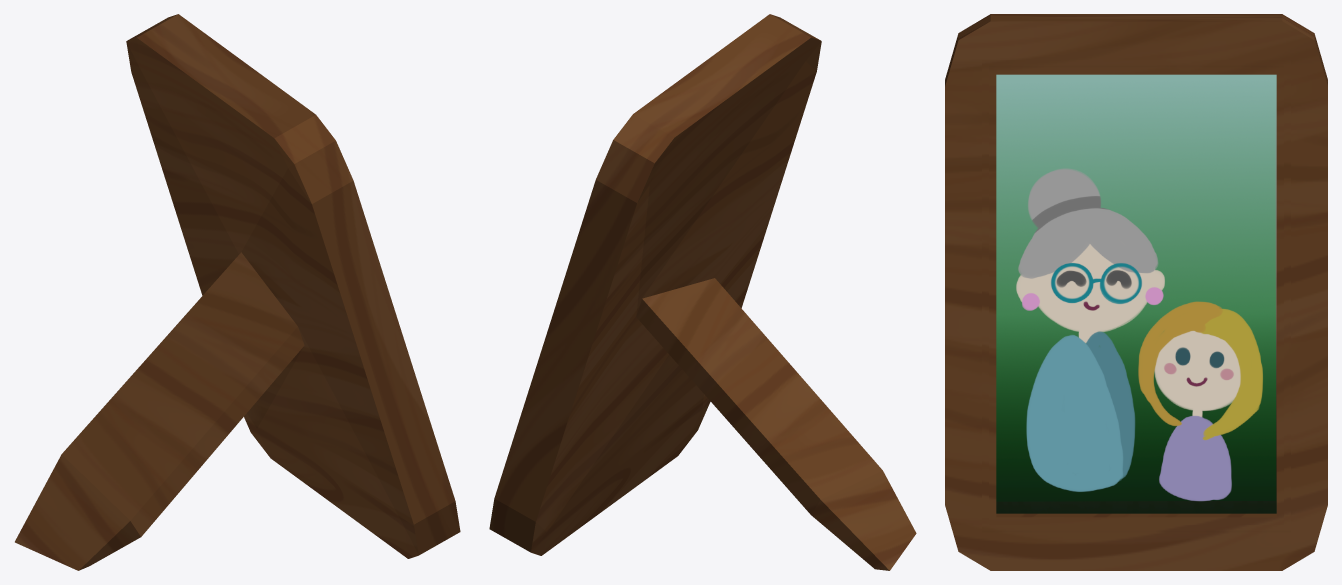
The model's file is picture frame.fbx.
3 renders of one model, left to right at view 1: azimuth 30°, elevation 25°; view 2: azimuth 150°, elevation 25°; view 3: azimuth 270°, elevation 25°, orthographic. The views are drawn at different scales.
Parts seen in each view (by area): view 1: Cube; view 2: Cube; view 3: Cube.
Part boxes in pixels (<box>): Cube: <box>15,14,460,570</box>; Cube: <box>489,14,916,570</box>; Cube: <box>945,14,1327,570</box>.
Size of the model in its own units: 221 by 285 by 200.
2 materials, 2 textured.
